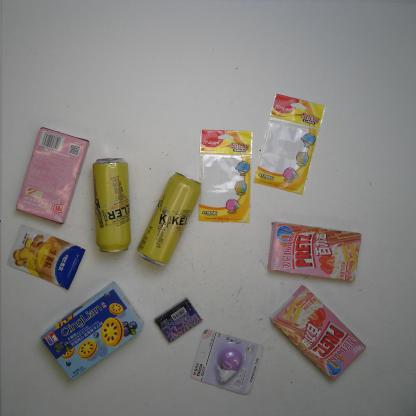Alcohol: (136, 172, 202, 267), (92, 158, 131, 253)
Dessert: (40, 281, 144, 381), (269, 284, 367, 381), (15, 126, 90, 225), (267, 222, 362, 282)
Gum: (154, 297, 203, 343)
Seasoner: (6, 225, 86, 291)
Stationery: (254, 92, 326, 196), (198, 129, 252, 224), (191, 329, 264, 395)
